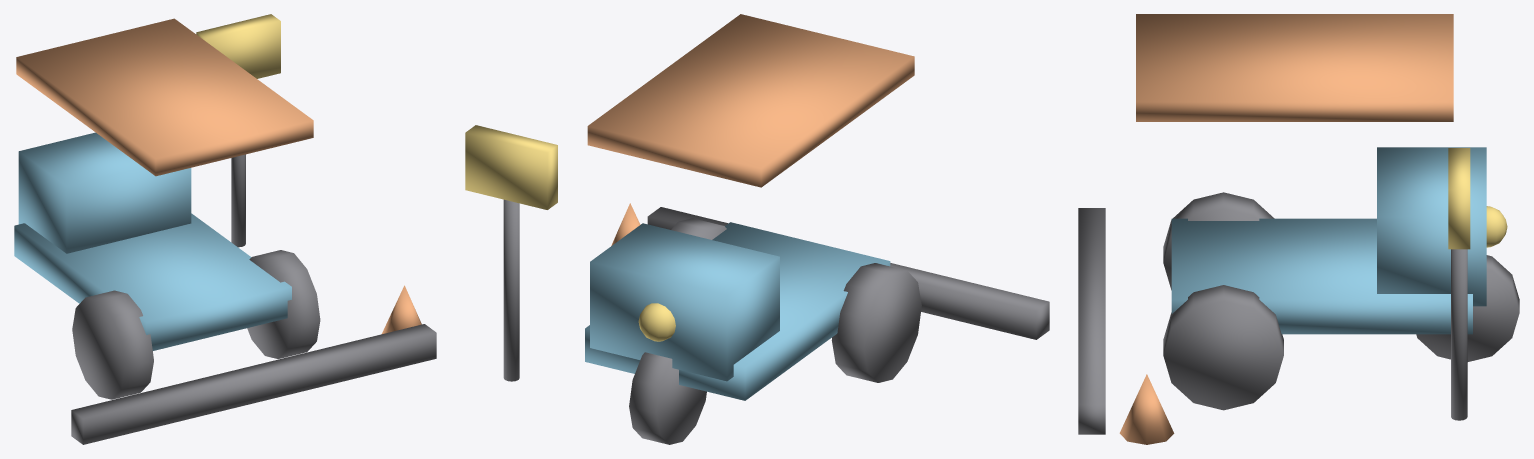
The model's file is tuk_tuk_station_lv1.glb.
3 views of the same model, side by side, from view 1: azimuth 30°, elevation 25°; view 2: azimuth 150°, elevation 25°; view 3: azimuth 270°, elevation 25° (orthographic). The views are drawn at different scales.
Visible parts, largest first — view 1: tuktuk1_roof, tuktuk1_chassis, tuktuk1_hood, curb_border_b, tuktuk1_w_bl, tuktuk1_w_br, sign_board, sign_pole, parking_cone; view 2: tuktuk1_roof, tuktuk1_hood, tuktuk1_chassis, tuktuk1_w_bl, curb_border_b, sign_board, tuktuk1_w_f, sign_pole, tuktuk1_lh, tuktuk1_w_br; view 3: tuktuk1_roof, tuktuk1_chassis, tuktuk1_hood, tuktuk1_w_br, curb_border_b, tuktuk1_w_f, sign_pole, tuktuk1_w_bl, sign_board, parking_cone, tuktuk1_lh.
Part boxes in pixels (x1=…): tuktuk1_roof: x1=16, y1=18, x2=313, y2=176; tuktuk1_chassis: x1=14, y1=213, x2=291, y2=350; tuktuk1_hood: x1=18, y1=132, x2=191, y2=253; curb_border_b: x1=71, y1=324, x2=436, y2=444; tuktuk1_w_bl: x1=72, y1=290, x2=153, y2=399; tuktuk1_w_br: x1=247, y1=250, x2=320, y2=358; sign_board: x1=196, y1=14, x2=280, y2=78; sign_pole: x1=231, y1=154, x2=245, y2=247; parking_cone: x1=382, y1=285, x2=421, y2=333; tuktuk1_roof: x1=587, y1=14, x2=914, y2=187; tuktuk1_hood: x1=590, y1=223, x2=779, y2=381; tuktuk1_chassis: x1=585, y1=222, x2=890, y2=400; tuktuk1_w_bl: x1=831, y1=263, x2=921, y2=382; curb_border_b: x1=647, y1=207, x2=1049, y2=339; sign_board: x1=465, y1=125, x2=557, y2=209; tuktuk1_w_f: x1=629, y1=352, x2=706, y2=444; sign_pole: x1=503, y1=199, x2=519, y2=381; tuktuk1_lh: x1=638, y1=303, x2=675, y2=341; tuktuk1_w_br: x1=671, y1=218, x2=726, y2=239; tuktuk1_roof: x1=1136, y1=14, x2=1453, y2=121; tuktuk1_chassis: x1=1171, y1=218, x2=1472, y2=334; tuktuk1_hood: x1=1377, y1=147, x2=1486, y2=306; tuktuk1_w_br: x1=1163, y1=285, x2=1283, y2=410; curb_border_b: x1=1078, y1=208, x2=1105, y2=434; tuktuk1_w_f: x1=1416, y1=255, x2=1519, y2=361; sign_pole: x1=1451, y1=249, x2=1467, y2=420; tuktuk1_w_bl: x1=1163, y1=192, x2=1274, y2=290; sign_board: x1=1448, y1=148, x2=1470, y2=249; parking_cone: x1=1119, y1=374, x2=1174, y2=444; tuktuk1_lh: x1=1486, y1=206, x2=1507, y2=247.
Size of the model in its own units: 0.895 by 0.6 by 0.805.
